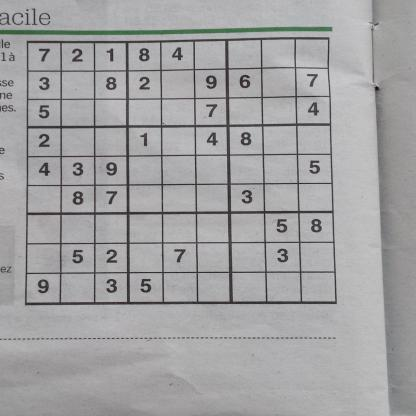sudoku: (21, 34, 342, 310)
